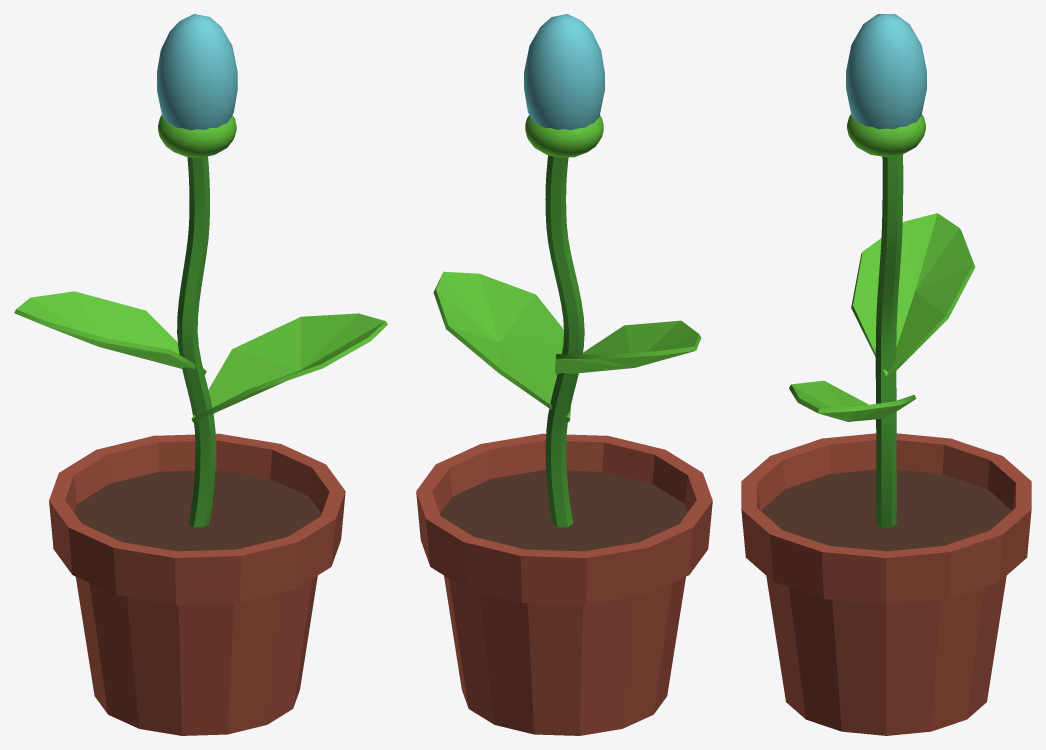
Rendered from Pot_L5.fbx.
3 renders of one model, left to right at view 1: azimuth 30°, elevation 25°; view 2: azimuth 150°, elevation 25°; view 3: azimuth 270°, elevation 25°, orthographic.
Parts seen in each view (by area): view 1: L5_Pot, L5_Soil, L5_Leaf_R, L5_Bud, L5_Stem, L5_Leaf_L, L5_Sepal; view 2: L5_Pot, L5_Soil, L5_Leaf_R, L5_Bud, L5_Stem, L5_Leaf_L, L5_Sepal; view 3: L5_Pot, L5_Soil, L5_Leaf_L, L5_Bud, L5_Stem, L5_Leaf_R, L5_Sepal.
Boxes of the visible parts, x1,y1,x2,y2 form: L5_Pot: [49, 433, 345, 735]; L5_Soil: [74, 470, 321, 551]; L5_Leaf_R: [191, 313, 387, 422]; L5_Bud: [157, 14, 237, 130]; L5_Stem: [177, 156, 215, 527]; L5_Leaf_L: [14, 291, 206, 374]; L5_Sepal: [158, 115, 236, 157]; L5_Pot: [416, 433, 712, 735]; L5_Soil: [440, 470, 687, 551]; L5_Leaf_R: [433, 271, 571, 421]; L5_Bud: [524, 14, 604, 130]; L5_Stem: [545, 155, 584, 527]; L5_Leaf_L: [555, 320, 701, 375]; L5_Sepal: [525, 115, 603, 157]; L5_Pot: [741, 433, 1031, 735]; L5_Soil: [761, 469, 1011, 551]; L5_Leaf_L: [851, 213, 975, 379]; L5_Bud: [846, 14, 926, 129]; L5_Stem: [875, 154, 903, 527]; L5_Leaf_R: [789, 380, 915, 421]; L5_Sepal: [847, 114, 925, 157].
Size of the model in its own units: 31.69 by 65.3 by 25.35.
